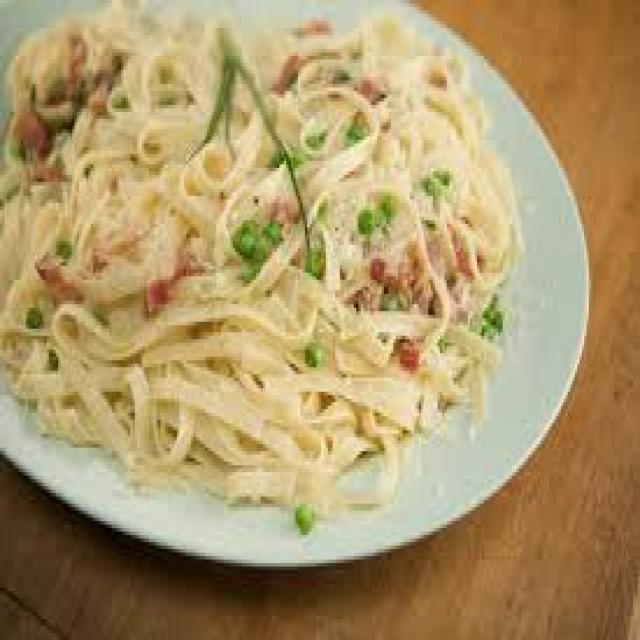wet: (14, 46, 483, 402), (11, 34, 114, 170)
